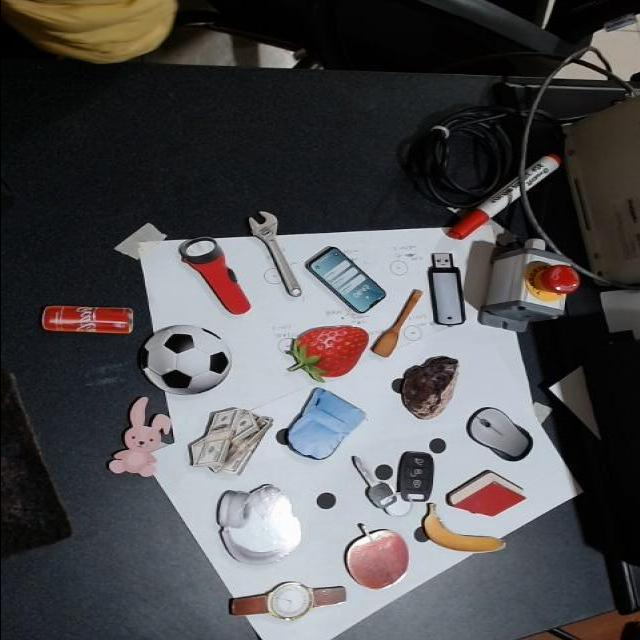Other Objects: (268, 386, 371, 468), (173, 232, 255, 324), (298, 243, 392, 318), (215, 484, 301, 565), (453, 401, 544, 471), (138, 326, 230, 394), (304, 247, 387, 315), (188, 408, 272, 475), (243, 210, 303, 301), (107, 397, 172, 478), (228, 581, 347, 623), (368, 286, 433, 361), (247, 211, 303, 298), (421, 503, 507, 553), (344, 525, 408, 590), (400, 356, 460, 421), (41, 306, 135, 335), (428, 253, 464, 325)
